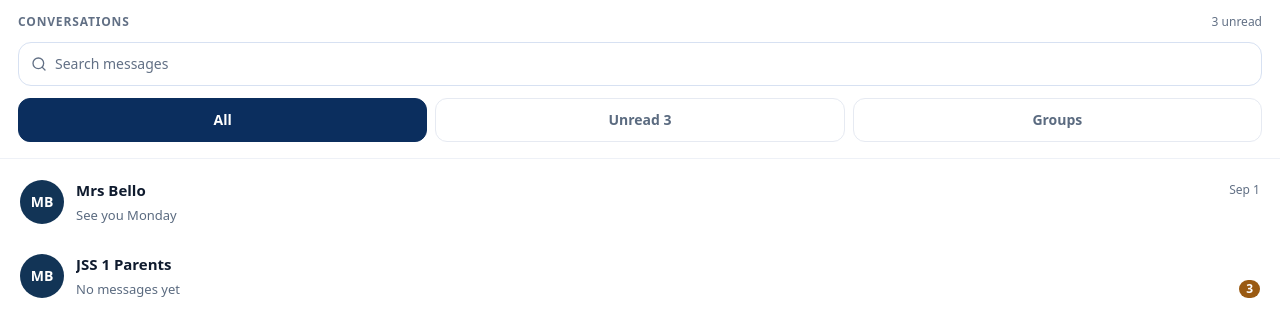
Test: MessagesSidebar › searches by name
Type "bello" into the field labelled "Search messages" at (652, 64), box left=55, top=54, right=1249, bottom=74
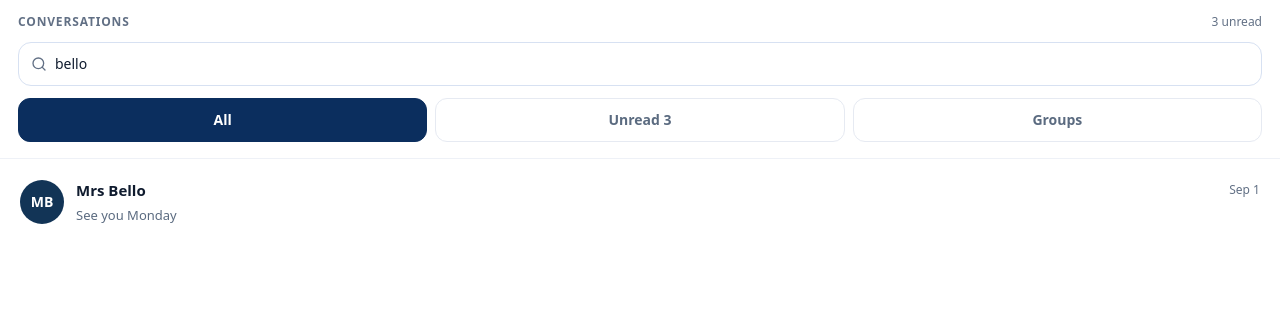
Expected: the text "Mrs Bello" is shown, left=76, top=179, right=146, bottom=202
Expected: the button "JSS 1 Parents" is gone
